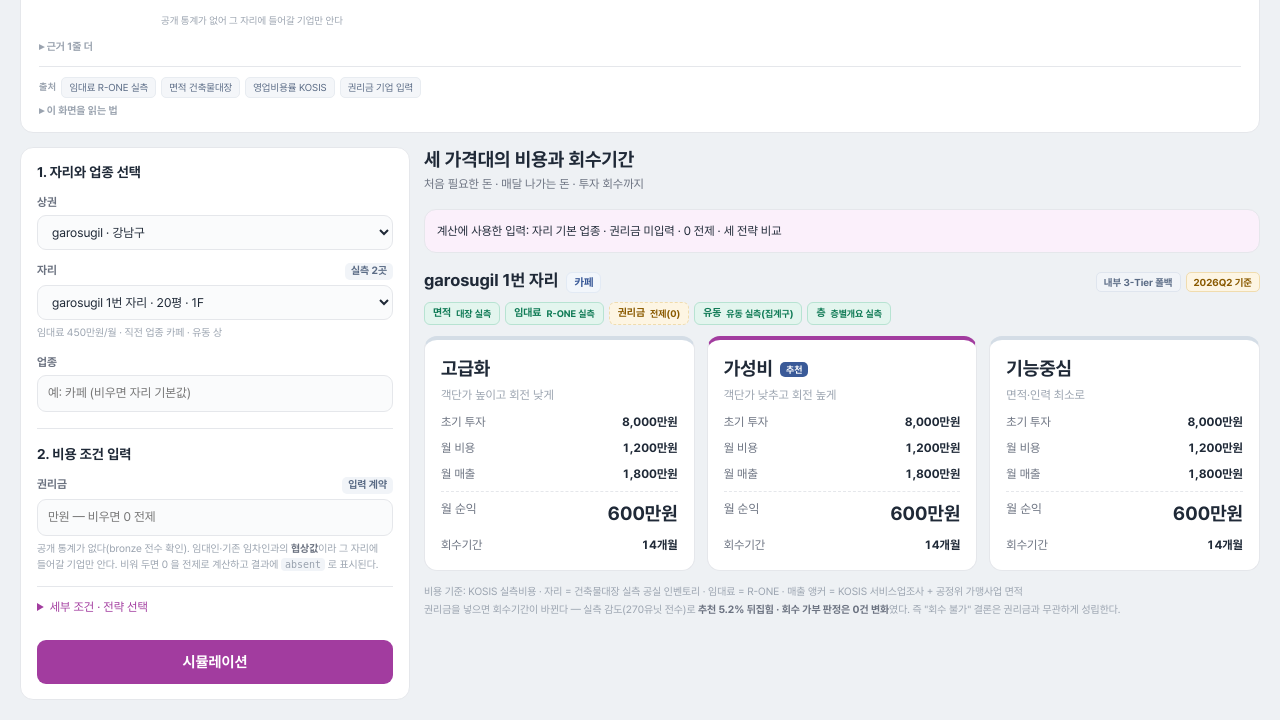
Scenario: Posting — 입력과 결과의 대응 › 다른 자리를 선택하면 이전 입력과 비교 결과를 비운다
(page scrolled)
Check: the text "전제(0)" is shown, box [650, 307, 680, 320]
In the field with placeholder "만원 — 비우면 0 전제": (215, 517) [37, 499, 393, 536], type "200"
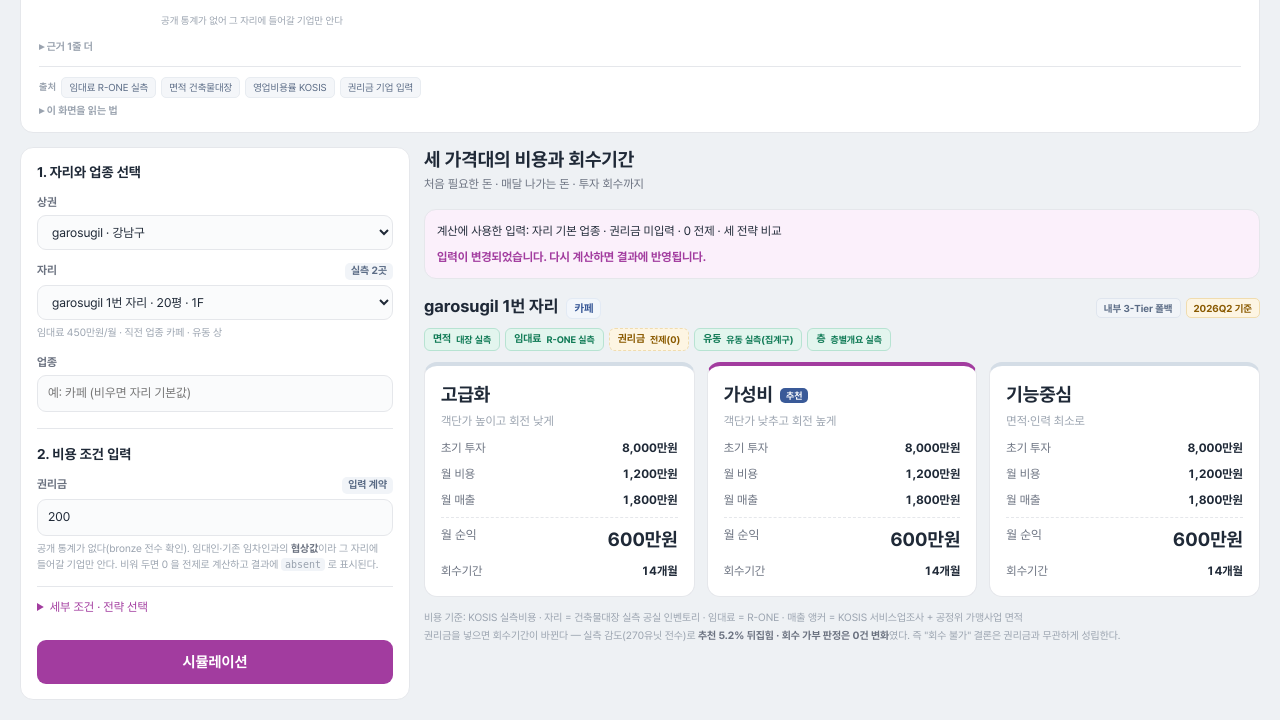
Click the button "시뮬레이션": (215, 662) [37, 640, 393, 684]
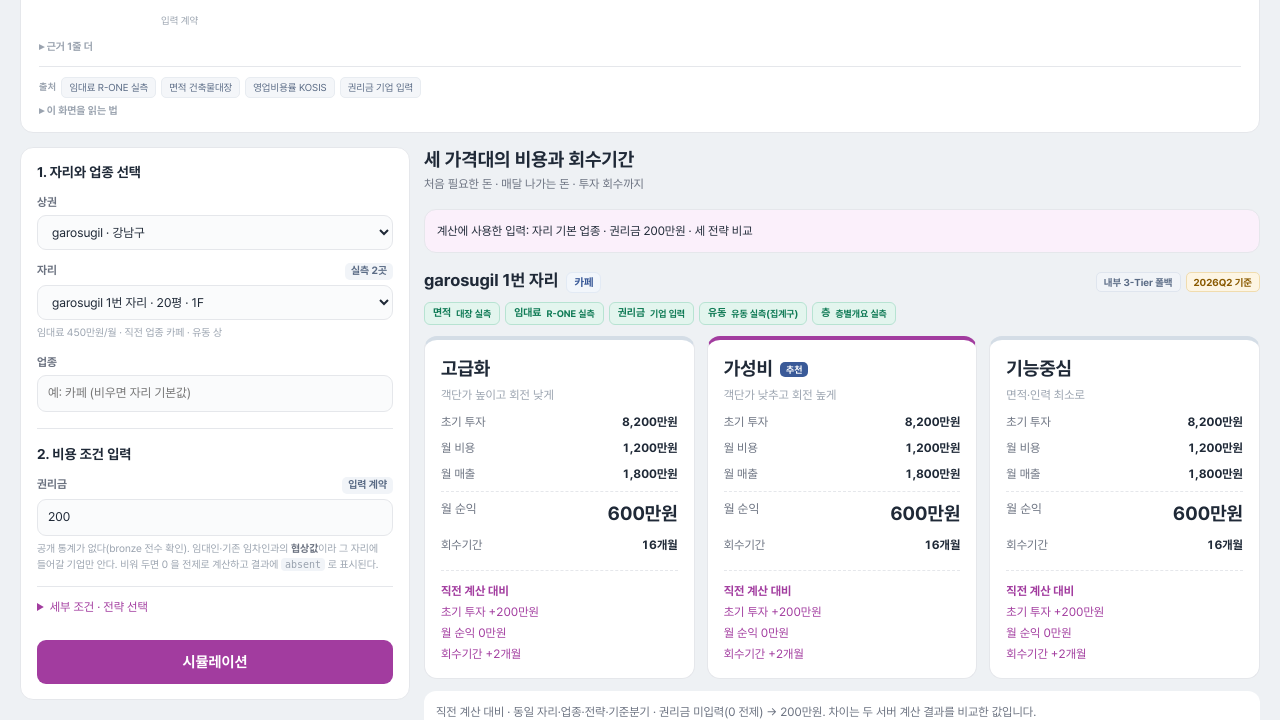
Check: the text "기업 입력" is shown, box [650, 307, 685, 320]
Select "garosugil 2번 자리 · 21평 · 1F" in the dropdown labelled "자리 실측 2곳 임대료 450만원/월 · 직전 업종 카페 · 유동 상": (215, 302) [37, 285, 393, 320]
(page scrolled)
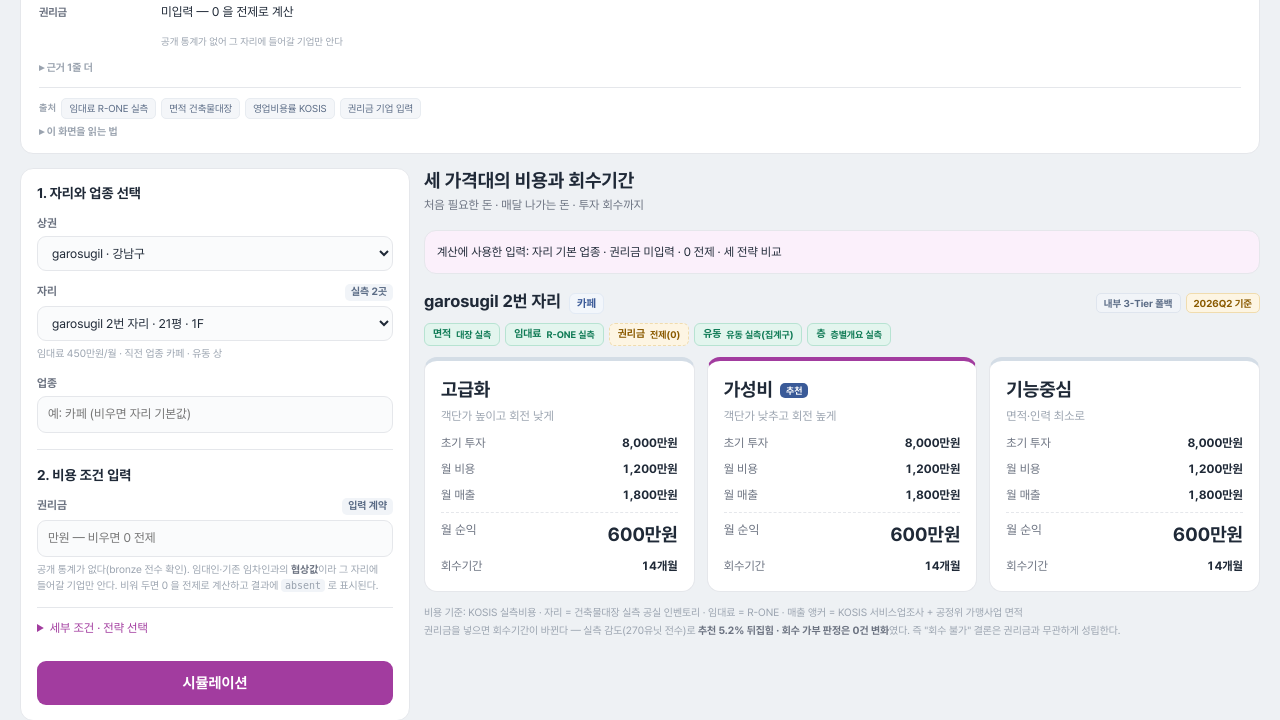
Check: the text "전제(0)" is shown, box [650, 328, 680, 341]
Check: the text "초기 투자 +200만원" is gone
Check: the field with placeholder "만원 — 비우면 0 전제" is empty, box [37, 520, 393, 557]
